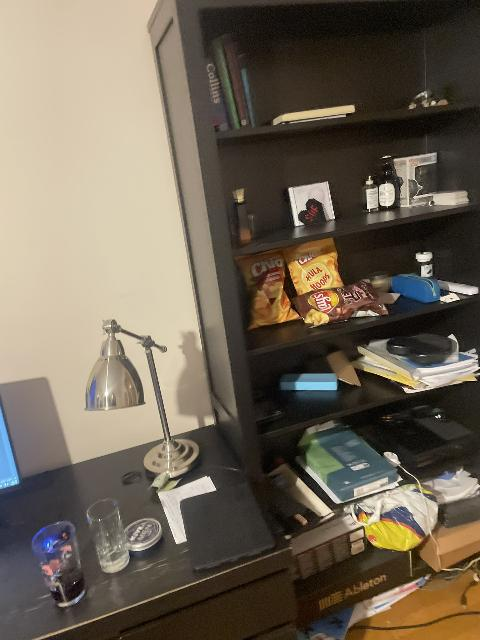Chio Cascaval 125g: (233, 248, 298, 329)
Chio Hula Hoops Cheese 70g: (284, 240, 343, 298)
Lays Beef Grilled Ribs 125g: (292, 280, 386, 325)
